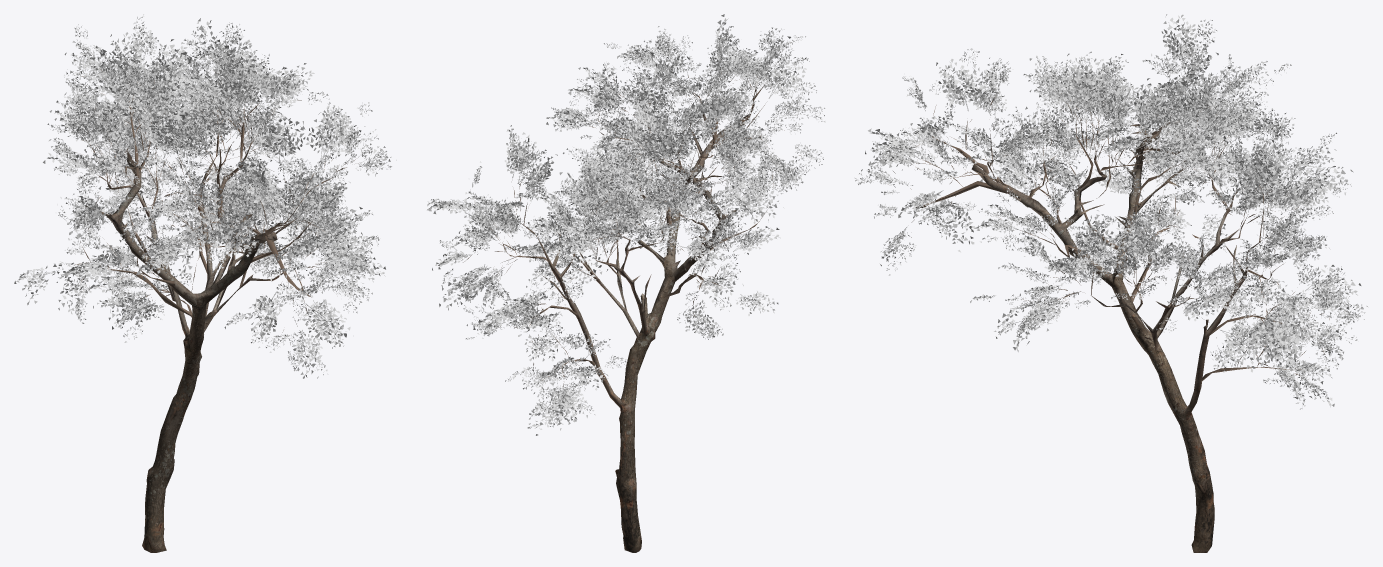
File: SM_Birch.fbx
The picture shows the model from 3 angles, left to right: view 1: azimuth 30°, elevation 25°; view 2: azimuth 150°, elevation 25°; view 3: azimuth 270°, elevation 25°; orthographic projection. The views are drawn at different scales.
Visible parts, largest first — view 1: SM_Birch; view 2: SM_Birch; view 3: SM_Birch.
Part boxes in pixels (x1,y1,x2,y2): SM_Birch: (14,14,396,552); SM_Birch: (427,14,825,552); SM_Birch: (855,14,1367,552).
Bounding box in the file's own units: 541 × 793 × 850.
